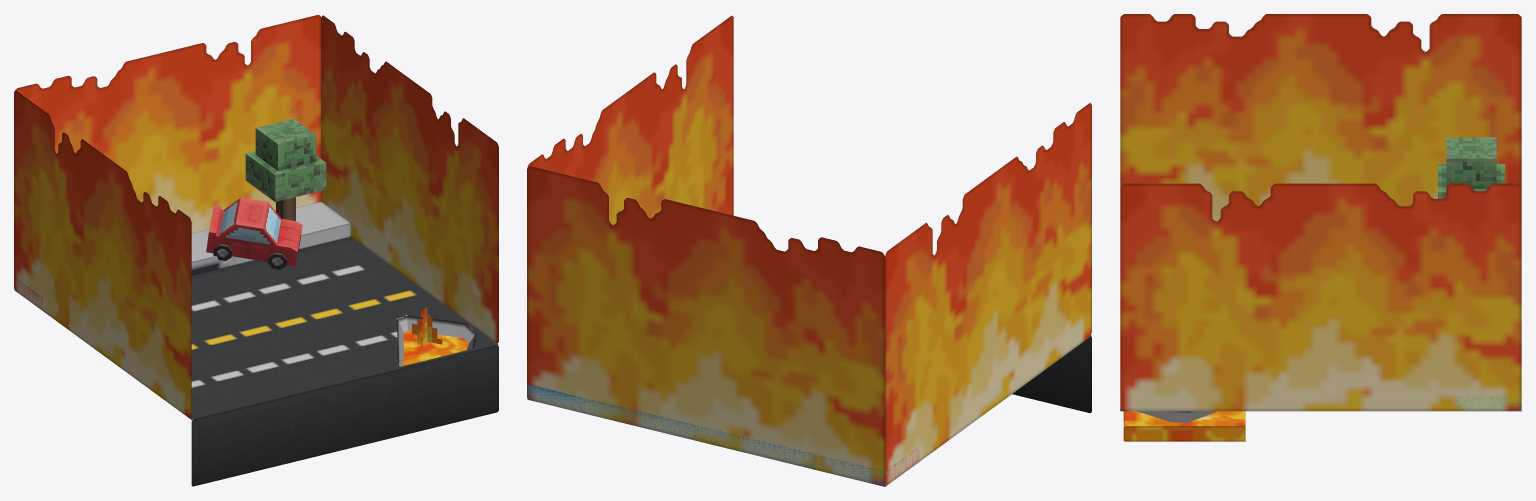
File: striaght.fbx
3 renders of one model, left to right at view 1: azimuth 30°, elevation 25°; view 2: azimuth 150°, elevation 25°; view 3: azimuth 270°, elevation 25°, orthographic. The views are drawn at different scales.
Parts seen in each view (by area): view 1: ground, cube, cube_1, cube_2, tree_1, carmain, sidewalk, lava, cube_3; view 2: cube_2, cube, cube_1, sidewalk, ground; view 3: cube_1, cube, lava, tree, ground, sidewalk.
Part boxes in pixels (box(x1,y1,x2,y2)): ground: box(14, 236, 498, 486); cube: box(14, 90, 191, 418); cube_1: box(321, 15, 498, 343); cube_2: box(15, 15, 321, 232); tree_1: box(245, 118, 326, 220); carmain: box(206, 197, 302, 266); sidewalk: box(14, 202, 350, 308); lava: box(402, 330, 468, 366); cube_3: box(213, 244, 287, 269); cube_2: box(527, 166, 885, 485); cube: box(885, 103, 1091, 485); cube_1: box(527, 15, 733, 224); sidewalk: box(527, 384, 919, 486); ground: box(527, 335, 1091, 486); cube_1: box(1120, 183, 1521, 411); cube: box(1120, 14, 1521, 221); lava: box(1123, 411, 1245, 441); tree: box(1438, 137, 1504, 198); ground: box(1120, 408, 1521, 422); sidewalk: box(1455, 396, 1521, 411).
Size of the model in its own units: 300 by 250 by 300.
Materials: 6 (6 with a texture image).
